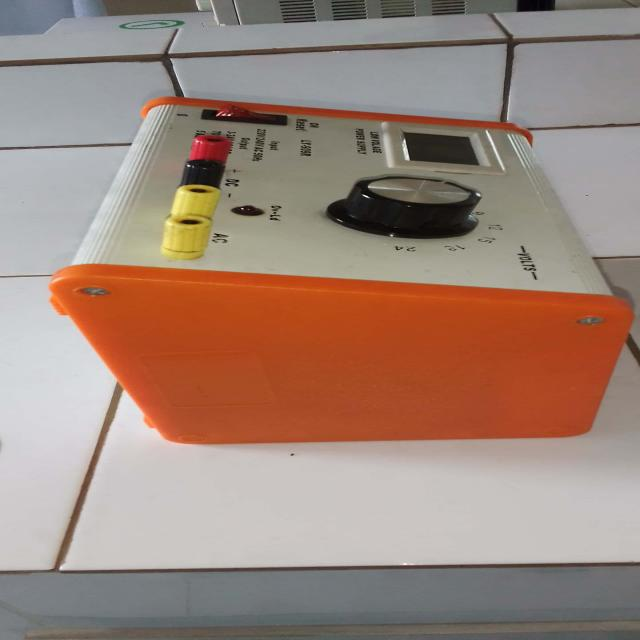Digital Power Supply: (31, 86, 640, 452)
